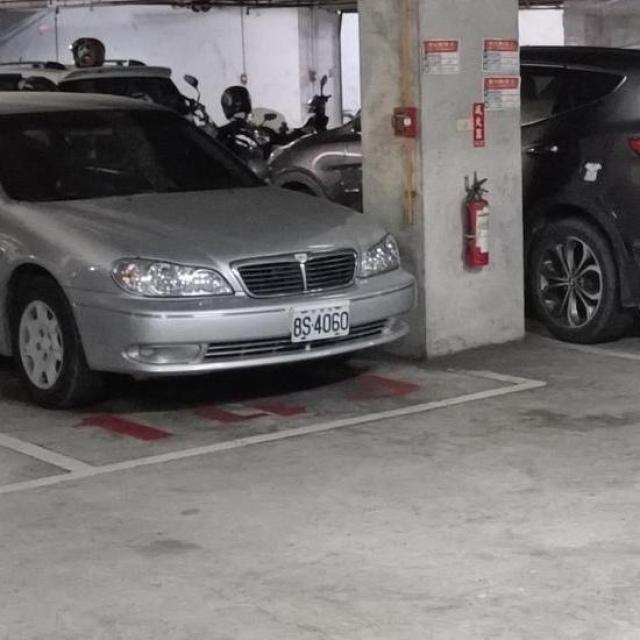W: (284, 295, 356, 348)
